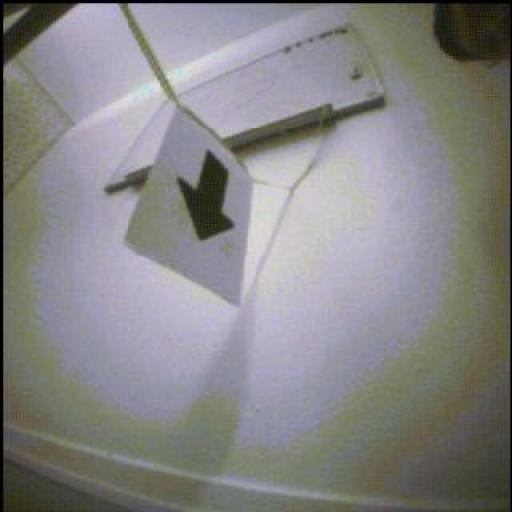Arrow: (179, 151, 235, 241)
